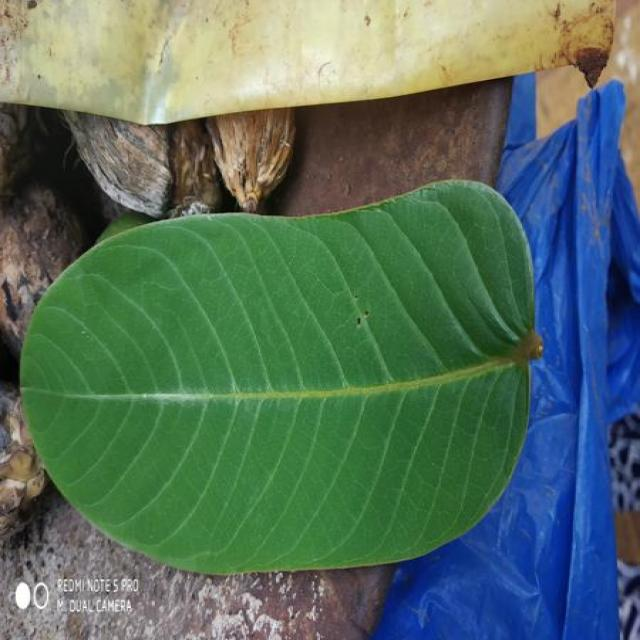chakte: (22, 182, 542, 574)
